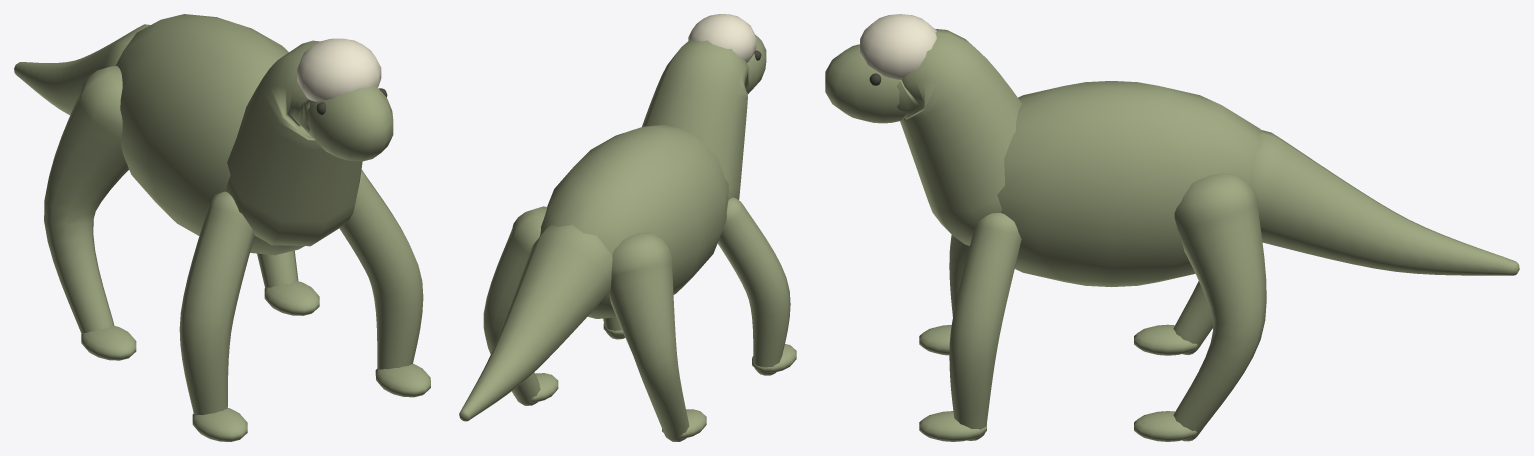
The model's file is pachycephalosaurus.glb.
3 views of the same model, side by side, from view 1: azimuth 30°, elevation 25°; view 2: azimuth 150°, elevation 25°; view 3: azimuth 270°, elevation 25° (orthographic). The views are drawn at different scales.
Visible parts, largest first — view 1: pachycephalosaurus; view 2: pachycephalosaurus; view 3: pachycephalosaurus.
Part boxes in pixels (x1=…): pachycephalosaurus: x1=14, y1=14, x2=430, y2=441; pachycephalosaurus: x1=459, y1=14, x2=796, y2=441; pachycephalosaurus: x1=825, y1=14, x2=1519, y2=441.
Size of the model in its own units: 1.71 by 2.71 by 4.5.
